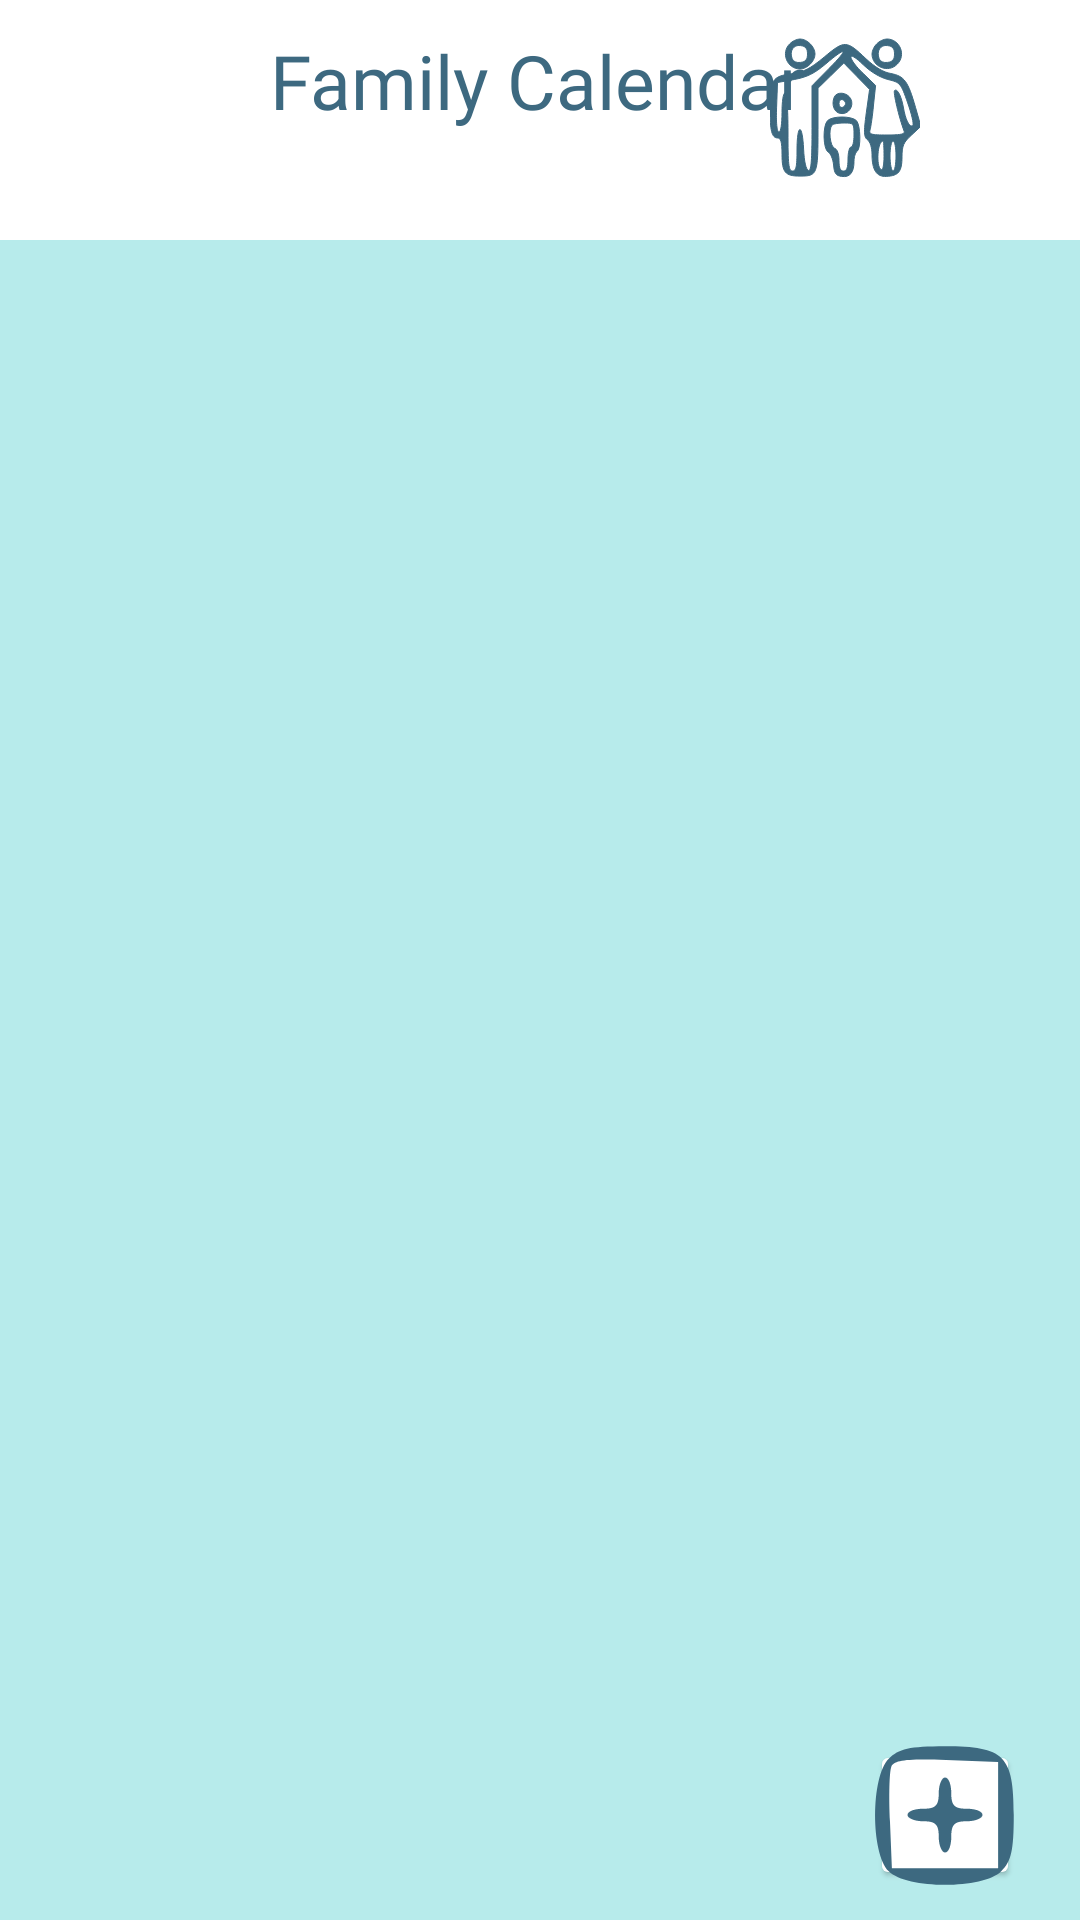

Icons on this 1080*1920 Android screen, each with its box as (x1, y1, x2, y2):
Boton para agregar una actividad: (875, 1746, 1014, 1885)
